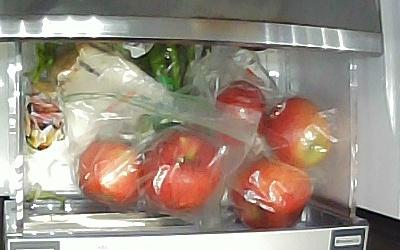apple_vinyl: (141, 131, 223, 212), (229, 159, 314, 231), (268, 96, 333, 168), (77, 137, 141, 210), (212, 82, 269, 142)
